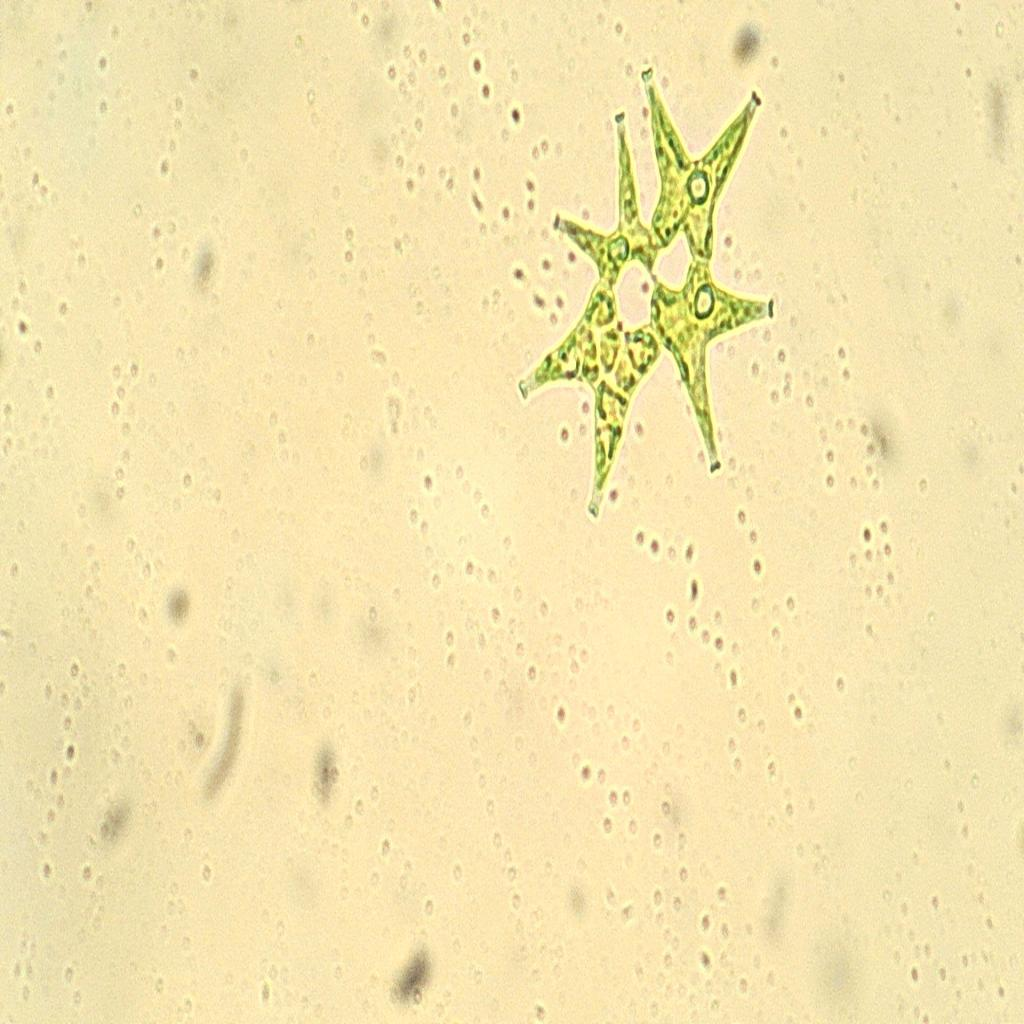Pediastrum_75FO: (507, 53, 792, 543)
